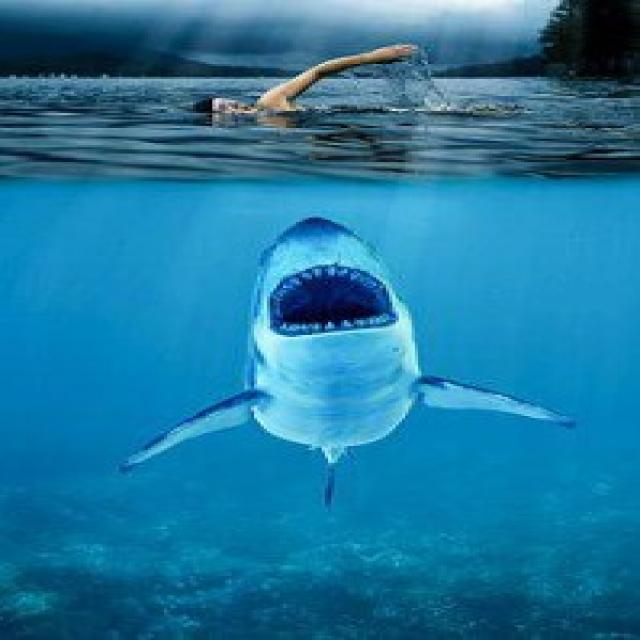Shark: (99, 208, 585, 512)
